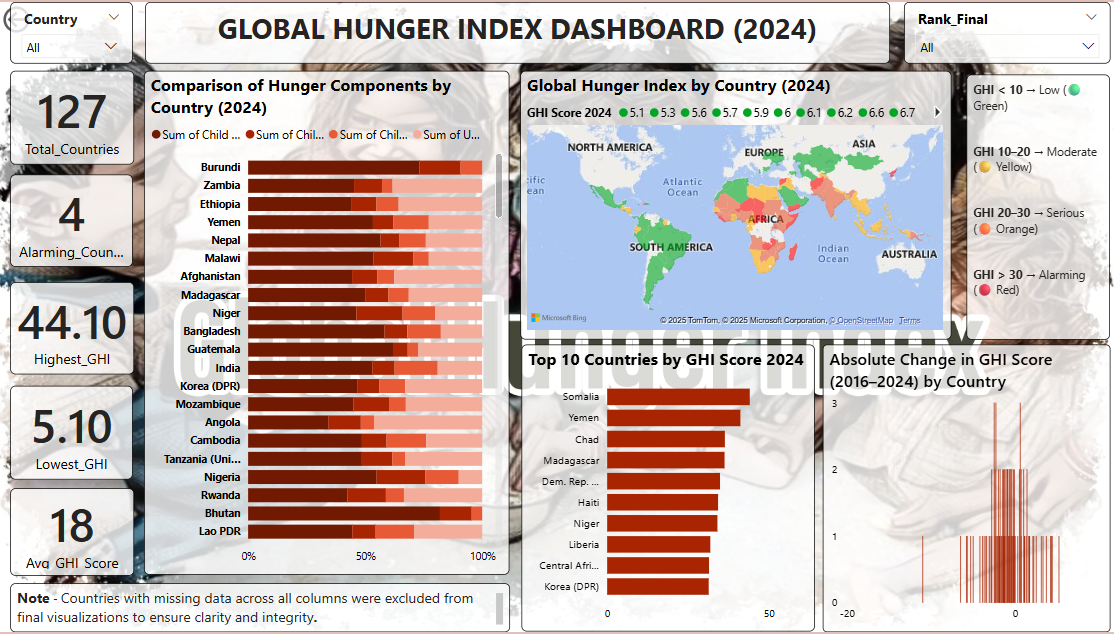

The page's visual inventory and layout, read from the dashboard file:
{"tool":"powerbi","page":{"name":"Page 1","canvas":[1280,720],"ordinal":0},"visuals":[{"type":"card","fields":{"Values":["2024 GHI Scores.Lowest_GHI"]},"box":[12.9,438.6,140,107.1],"z":0},{"type":"card","fields":{"Values":["2024 GHI Scores.Avg_GHI_Score"]},"box":[12.9,555.7,141.4,100],"z":1000},{"type":"card","fields":{"Values":["2024 GHI Scores.Alarming_Countries"]},"box":[12.9,197.1,140,105.7],"z":2000},{"type":"hundredPercentStackedBarChart","title":"Comparison of Hunger Components by Country (2024)","fields":{"Category":["2024 GHI Indicator Values.Country"],"Y":["Sum(2024 GHI Indicator Values.Child stunting (% of children <5 years old))","Sum(2024 GHI Indicator Values.Child mortality (% of children <5 years old))","Sum(2024 GHI Indicator Values.Child wasting (% of children <5 years old))","Sum(2024 GHI Indicator Values.Undernourishment(% of population))"]},"box":[166.2,78.8,417.5,576.2],"z":3000},{"type":"card","fields":{"Values":["2024 GHI Indicator Values.Total_Countries"]},"box":[12.9,78.6,141.4,107.1],"z":4000},{"type":"actionButton","box":[0,0,100,40],"z":5000},{"type":"filledMap","title":"Global Hunger Index by Country (2024)","fields":{"Category":["2024 GHI Scores.Country"],"Series":["2024 GHI Scores.GHI Score 2024"]},"box":[595.7,78.6,498.6,307.1],"z":6000},{"type":"clusteredBarChart","title":"Top 10 Countries by GHI Score 2024","fields":{"Category":["2024 GHI Scores.Country"],"Y":["Sum(2024 GHI Scores.GHI Score 2024)"]},"box":[596.7,391.7,335,328.3],"z":7000},{"type":"slicer","fields":{"Values":["2024 GHI Indicator Values.Country"]},"box":[12.9,0,140,70],"z":8000},{"type":"card","fields":{"Values":["2024 GHI Scores.Highest_GHI"]},"box":[12.9,320,141.4,105.7],"z":9000},{"type":"clusteredColumnChart","title":"Absolute Change in GHI Score (2016–2024) by Country","fields":{"Category":["2024 GHI Scores.Absolute Change in GHI (2016–2024)"],"Y":["CountNonNull(2024 GHI Scores.Country)"]},"box":[941.4,391.4,328.6,328.6],"z":10000},{"type":"textbox","box":[167.1,0,851.4,70],"z":11000},{"type":"slicer","fields":{"Values":["GHI Ranking 2024.Rank_Final"]},"box":[1034.3,0,235.7,70],"z":12000},{"type":"textbox","box":[1105.7,82.9,164.3,302.9],"z":13000},{"type":"textbox","box":[12.9,664.3,571.4,55.7],"z":14000}]}

Visuals, with their boxes in screenshot pixels (x1, y1, x2, y2), scaled from the page's 1280x720 canvas onto the 1114x634 screenshot:
card - 2024 GHI Scores.Lowest_GHI: (left=11, top=386, right=133, bottom=481)
card - 2024 GHI Scores.Avg_GHI_Score: (left=11, top=489, right=134, bottom=577)
card - 2024 GHI Scores.Alarming_Countries: (left=11, top=174, right=133, bottom=267)
"Comparison of Hunger Components by Country (2024)" hundredPercentStackedBarChart: (left=145, top=69, right=508, bottom=577)
card - 2024 GHI Indicator Values.Total_Countries: (left=11, top=69, right=134, bottom=164)
actionButton: (left=0, top=0, right=87, bottom=35)
"Global Hunger Index by Country (2024)" filledMap: (left=518, top=69, right=952, bottom=340)
"Top 10 Countries by GHI Score 2024" clusteredBarChart: (left=519, top=345, right=811, bottom=633)
slicer - 2024 GHI Indicator Values.Country: (left=11, top=0, right=133, bottom=62)
card - 2024 GHI Scores.Highest_GHI: (left=11, top=282, right=134, bottom=375)
"Absolute Change in GHI Score (2016–2024) by Country" clusteredColumnChart: (left=819, top=345, right=1105, bottom=633)
textbox: (left=145, top=0, right=886, bottom=62)
slicer - GHI Ranking 2024.Rank_Final: (left=900, top=0, right=1105, bottom=62)
textbox: (left=962, top=73, right=1105, bottom=340)
textbox: (left=11, top=585, right=509, bottom=633)
